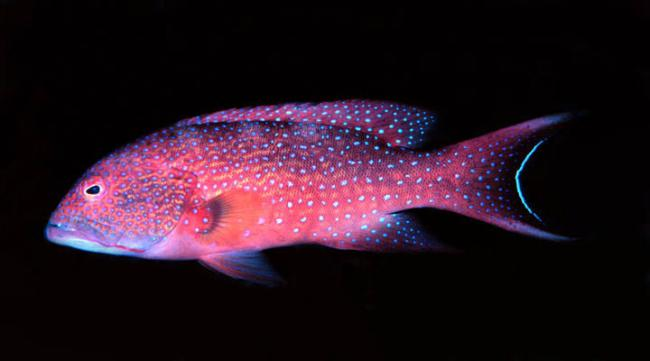fish: (46, 98, 569, 281)
